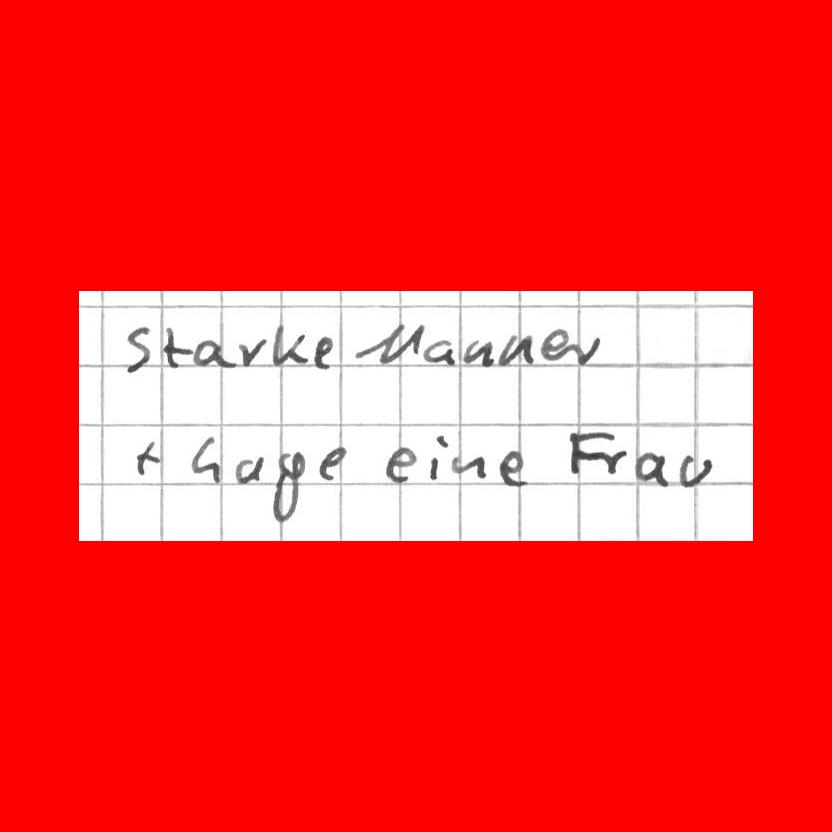Char: (353, 320, 426, 367), (268, 449, 306, 526), (190, 435, 226, 488), (564, 428, 603, 476), (270, 321, 308, 367), (122, 322, 154, 372), (190, 336, 236, 370), (495, 328, 533, 367), (675, 452, 714, 490), (160, 323, 192, 369), (536, 325, 572, 365), (314, 443, 348, 484), (131, 438, 164, 480), (381, 445, 417, 483), (632, 450, 668, 487), (498, 450, 529, 489), (419, 335, 456, 367), (231, 453, 267, 485), (427, 431, 449, 482), (567, 333, 601, 365), (461, 336, 497, 366), (450, 454, 488, 480), (598, 445, 626, 479), (312, 332, 336, 371), (238, 338, 268, 367)
